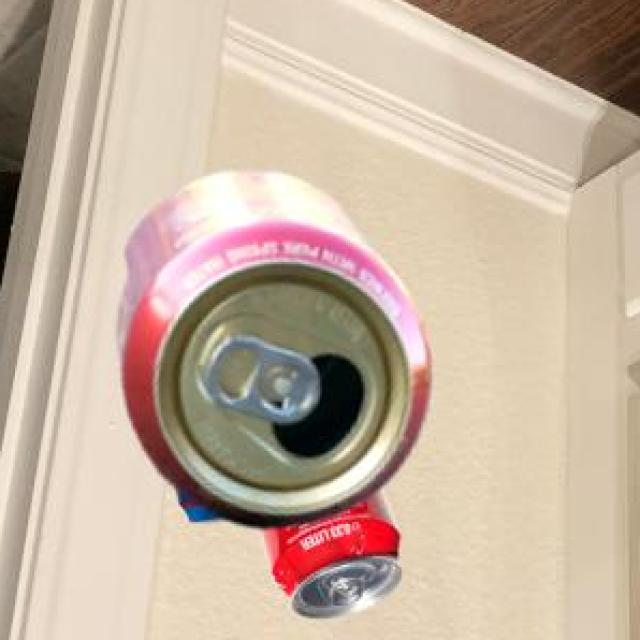logam: (121, 175, 435, 532), (263, 491, 405, 622), (183, 493, 231, 525)
